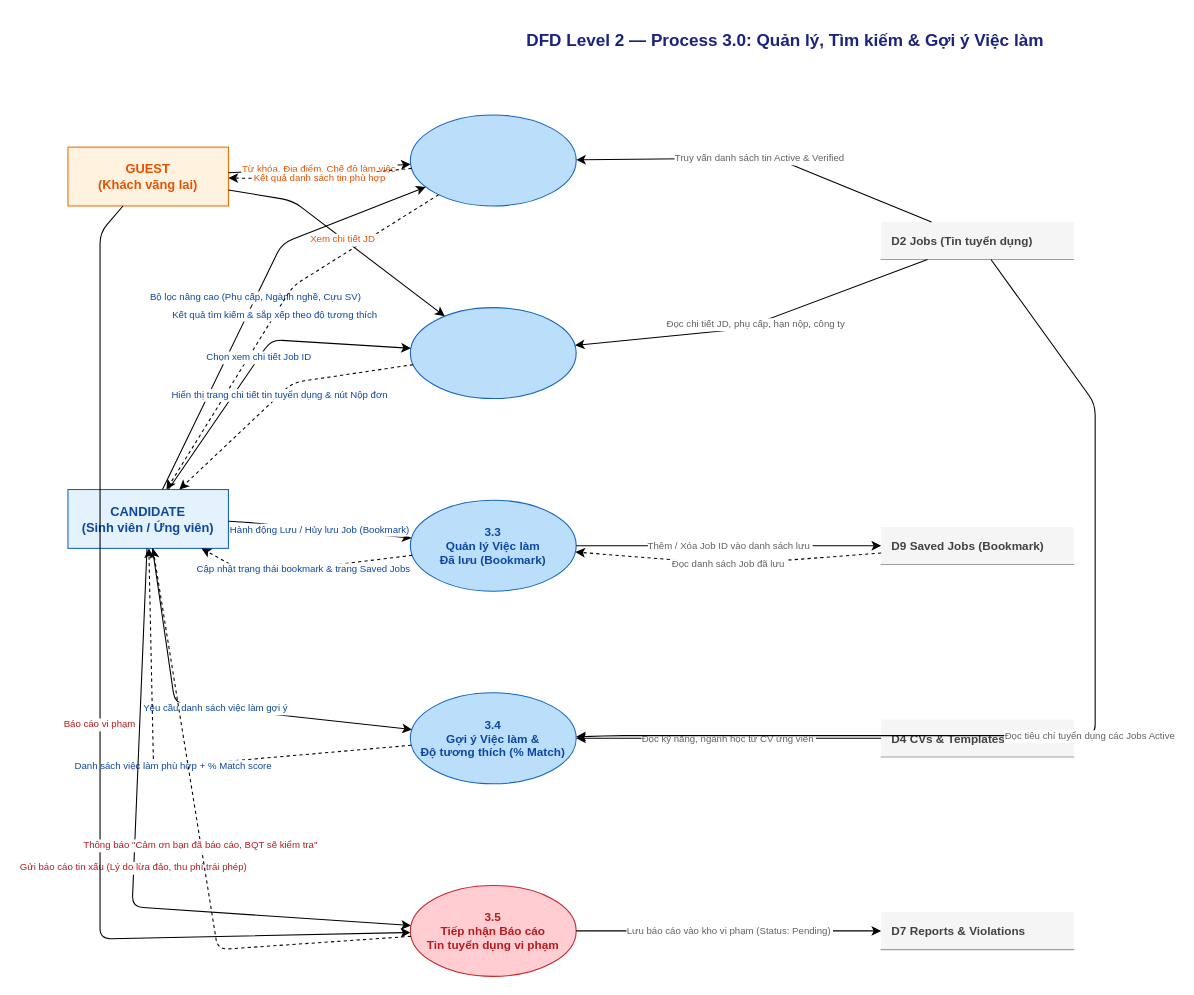
This 1194x995 diagram has some shape labels left out. Each missing label, with the box of its shape:
3.1 Tìm kiếm & Lọc Việc làm nâng cao: (409, 114, 576, 206)
3.2 Hiển thị Chi tiết JD & Phúc lợi: (409, 307, 576, 399)
